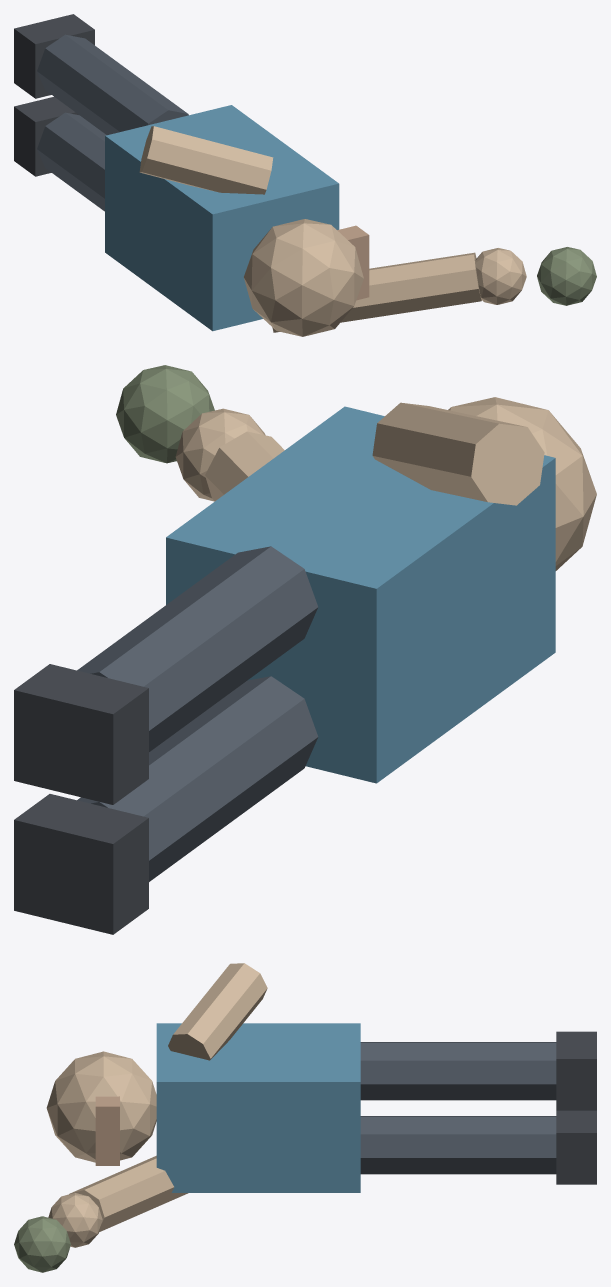
Rendered from player-throw.glb.
The picture shows the model from 3 angles, top to bottom: view 1: azimuth 30°, elevation 25°; view 2: azimuth 150°, elevation 25°; view 3: azimuth 270°, elevation 25°; orthographic projection. The views are drawn at different scales.
Parts seen in each view (by area): view 1: body_torso, look_head, body_right_leg, look_balance_arm, look_throw_arm, body_left_leg, body_right_boot, look_released_grenade, body_left_boot, look_throw_hand, look_face; view 2: body_torso, body_right_leg, body_left_leg, body_left_boot, body_right_boot, look_balance_arm, look_head, look_released_grenade, look_throw_hand, look_throw_arm; view 3: body_torso, body_left_leg, body_right_leg, look_head, look_balance_arm, look_throw_arm, body_right_boot, body_left_boot, look_released_grenade, look_throw_hand, look_face.
Boxes of the visible parts, x1,y1,x2,y2 form: body_torso: [105, 105, 339, 331]; look_head: [243, 219, 363, 336]; body_right_leg: [37, 34, 188, 135]; look_balance_arm: [139, 126, 273, 194]; look_throw_arm: [272, 252, 481, 332]; body_left_leg: [37, 112, 106, 211]; body_right_boot: [14, 14, 94, 98]; look_released_grenade: [537, 247, 596, 305]; body_left_boot: [14, 97, 78, 176]; look_throw_hand: [475, 248, 526, 304]; look_face: [337, 225, 369, 300]; body_torso: [166, 406, 555, 783]; body_right_leg: [77, 546, 318, 751]; body_left_leg: [77, 676, 318, 881]; body_left_boot: [14, 794, 148, 934]; body_right_boot: [14, 664, 148, 804]; look_balance_arm: [372, 402, 544, 505]; look_head: [448, 397, 596, 570]; look_released_grenade: [116, 365, 214, 463]; look_throw_hand: [175, 408, 265, 501]; look_throw_arm: [205, 431, 284, 500]; body_torso: [156, 1023, 360, 1192]; body_left_leg: [360, 1116, 556, 1174]; body_right_leg: [360, 1042, 556, 1100]; look_head: [46, 1051, 156, 1162]; look_balance_arm: [168, 963, 267, 1060]; look_throw_arm: [69, 1155, 188, 1231]; body_right_boot: [556, 1031, 596, 1110]; body_left_boot: [556, 1110, 596, 1184]; look_released_grenade: [14, 1216, 70, 1272]; look_throw_hand: [48, 1193, 102, 1247]; look_face: [95, 1096, 119, 1165].
Bounding box in the file's own units: 47.11 × 25.83 × 71.5.
